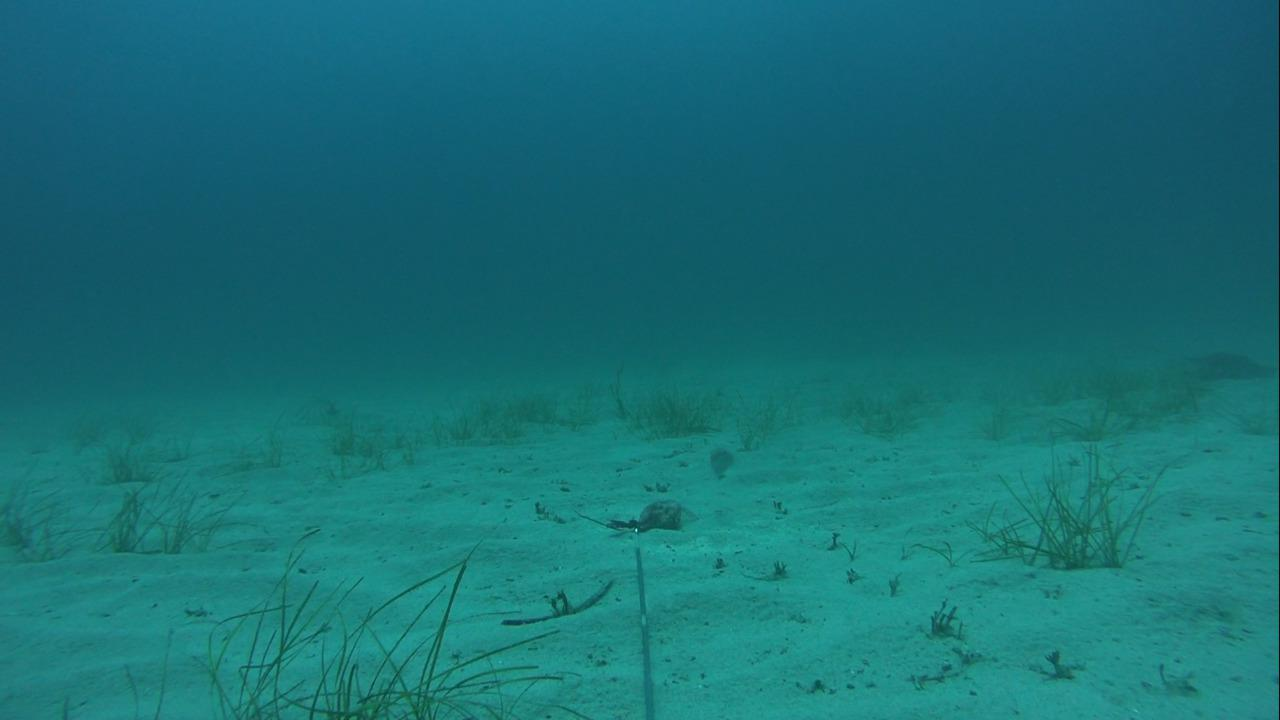myliobatis: (1142, 338, 1279, 391)
raor: (701, 439, 748, 487)
